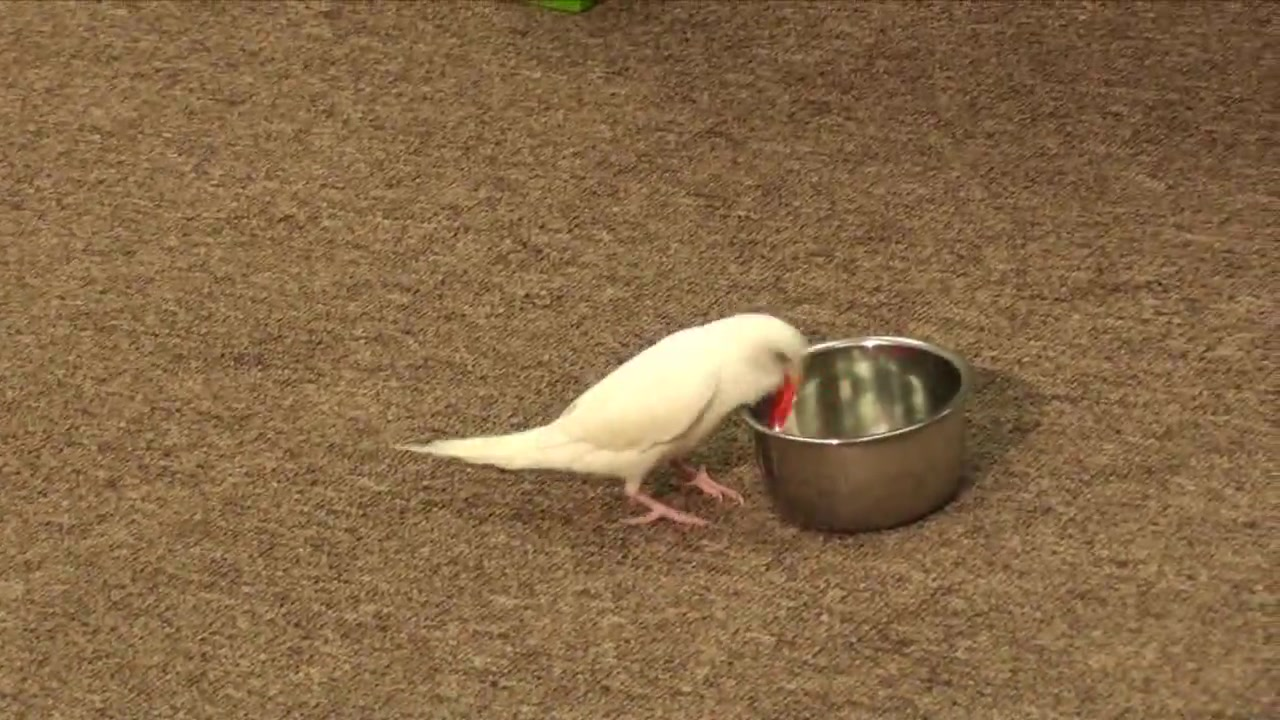bird: (400, 307, 810, 539)
